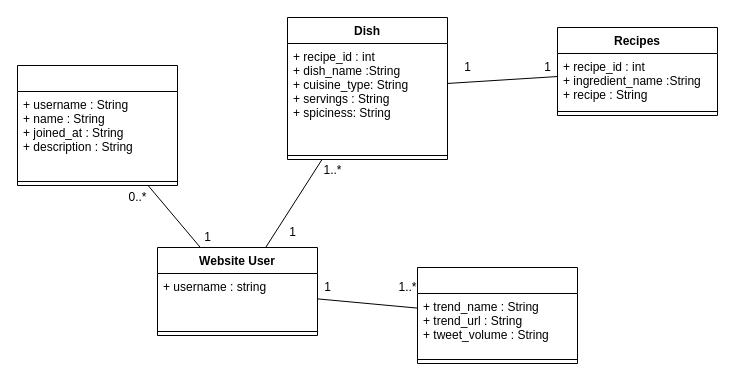
The diagram is 735 pixels wide and 381 high, and some of its shapes have lost their labels. The shapes that lost their labels are listed below. From the top down, each one's box as (x1, y1, x2, y2) in pixels, then its label:
(16, 64, 178, 186): Twitter User
(416, 266, 578, 364): Popular Hashtags
